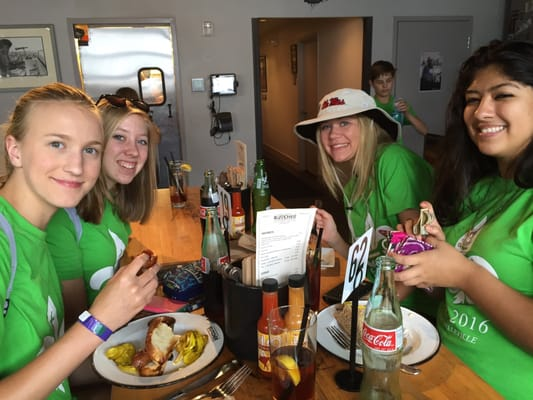pizza: (168, 161, 191, 207)
